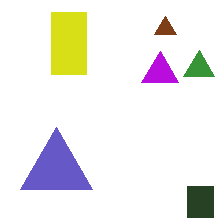rectangle: (51, 12, 86, 74), (187, 186, 213, 217)
triangle: (20, 127, 92, 189), (141, 51, 178, 82), (183, 50, 214, 76), (154, 16, 176, 34)
